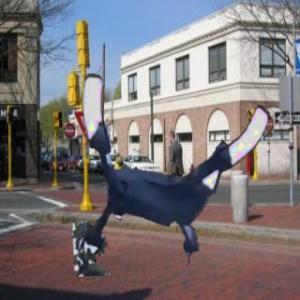drone: (70, 69, 276, 275)
